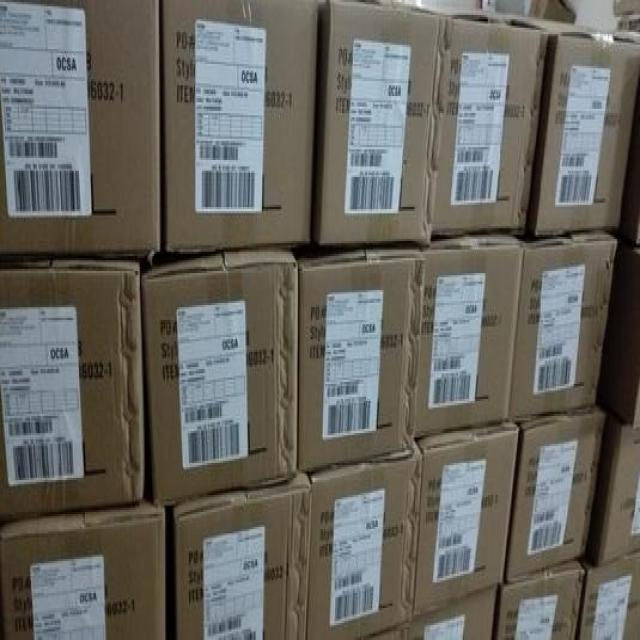box: (0, 3, 164, 267), (142, 246, 300, 505), (162, 4, 318, 259), (1, 262, 144, 520), (309, 0, 451, 248), (504, 15, 639, 234), (296, 248, 424, 473), (430, 12, 548, 243), (0, 496, 168, 638), (171, 470, 313, 637), (411, 234, 526, 440), (305, 438, 423, 638), (413, 420, 518, 621), (509, 230, 616, 420), (506, 406, 608, 582), (588, 404, 639, 569), (598, 230, 639, 426), (496, 561, 585, 637), (578, 550, 639, 637), (408, 586, 500, 638), (367, 621, 409, 638)
